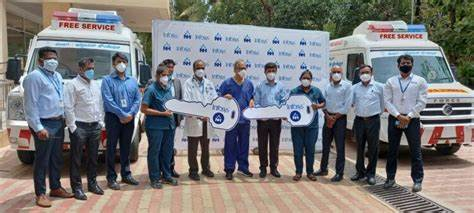ambulance: (14, 6, 146, 175), (329, 12, 473, 165)
